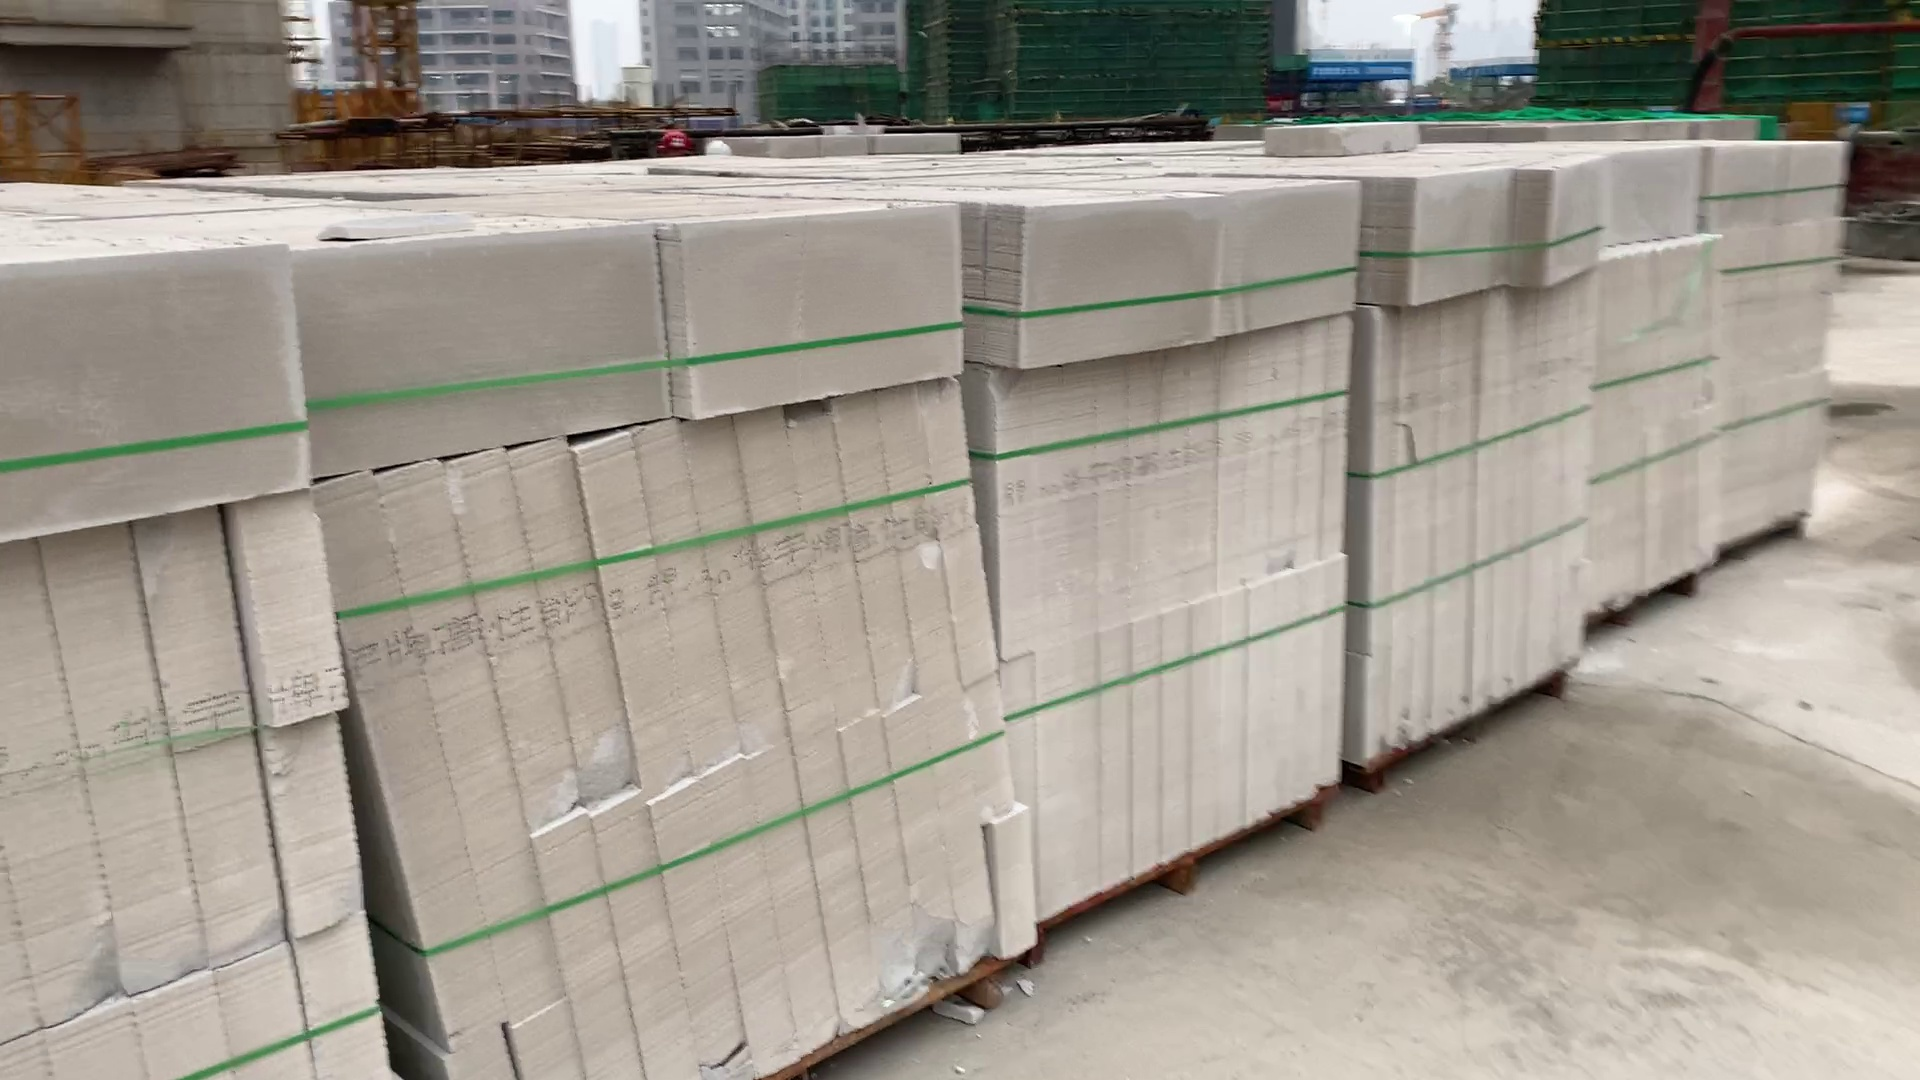brickwork: (313, 207, 1025, 1080), (3, 222, 400, 1080), (989, 189, 1345, 902), (1369, 198, 1584, 773), (1584, 156, 1712, 611), (1714, 141, 1841, 566)
